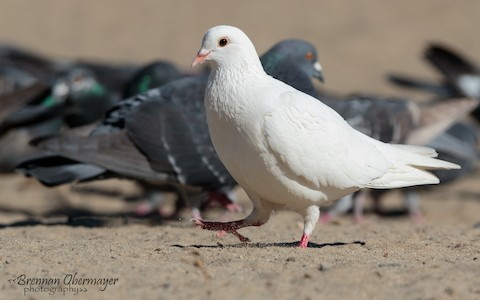pigeon: (15, 38, 353, 238), (189, 18, 469, 254)
